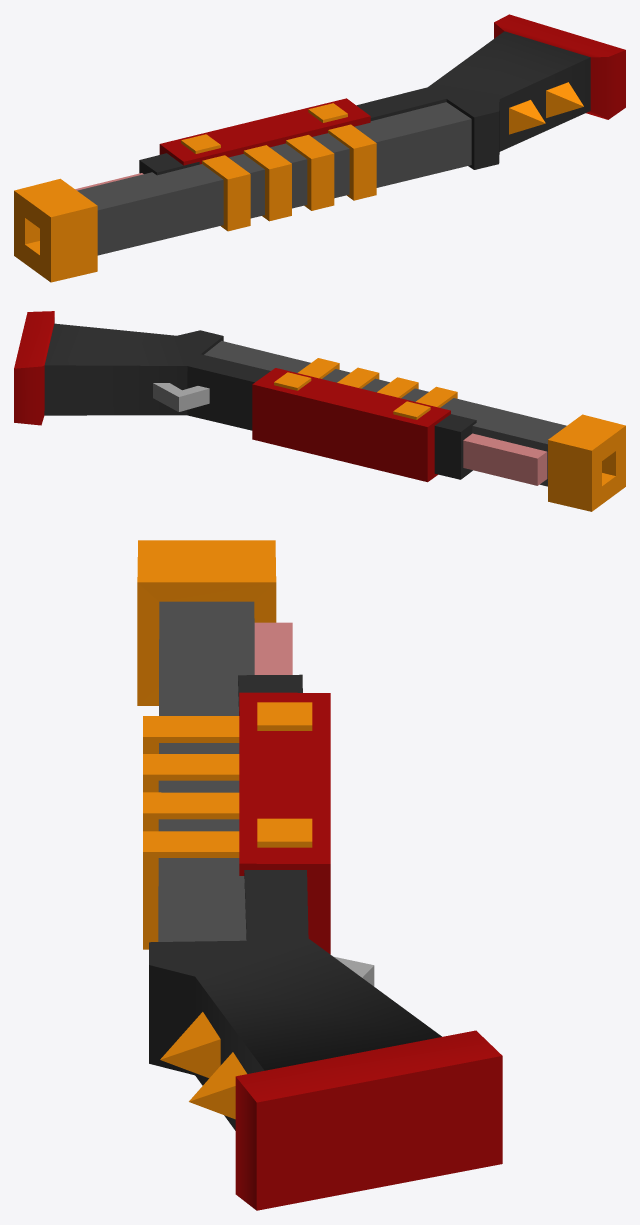
Rendered from Two Handed Gun 02.FBX.
3 renders of one model, top to bottom at view 1: azimuth 30°, elevation 25°; view 2: azimuth 150°, elevation 25°; view 3: azimuth 270°, elevation 25°, orthographic. The views are drawn at different scales.
Visible parts, largest first — view 1: Two Handed Gun 02; view 2: Two Handed Gun 02; view 3: Two Handed Gun 02.
Part boxes in pixels (bbox=[...]): Two Handed Gun 02: bbox=[14, 14, 625, 282]; Two Handed Gun 02: bbox=[14, 311, 625, 511]; Two Handed Gun 02: bbox=[137, 540, 502, 1210].
Size of the model in its own units: 89.98 by 9.34 by 25.01.
